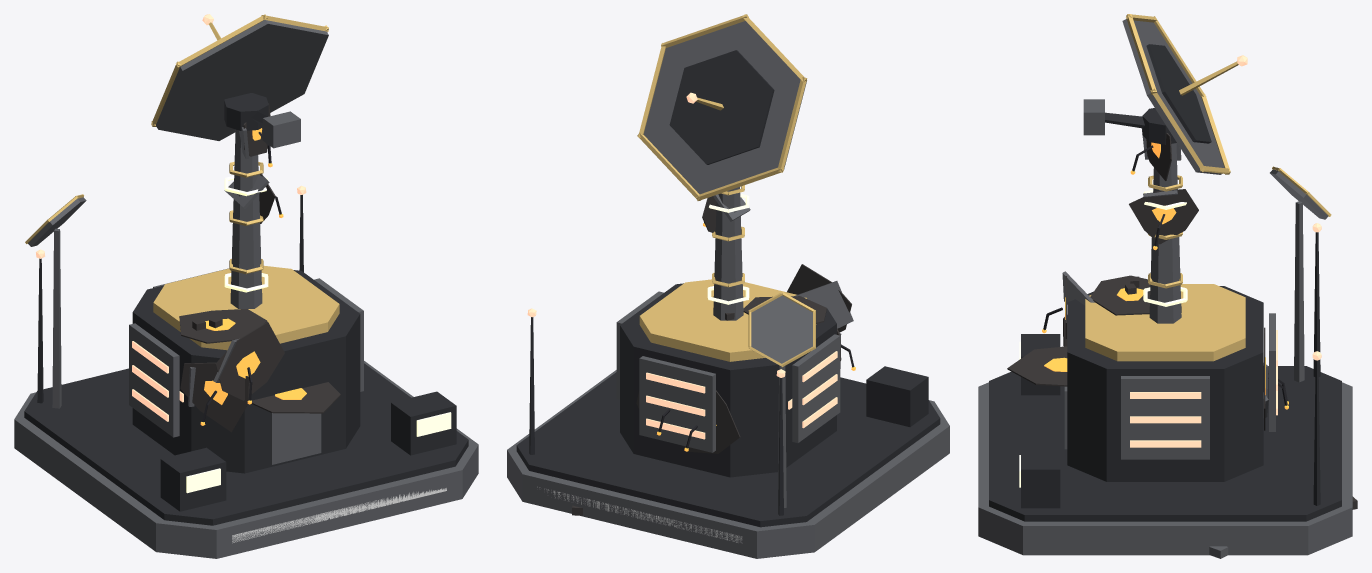
Rendered from Aegis_SensorArray.fbx.
3 views of the same model, side by side, from view 1: azimuth 30°, elevation 25°; view 2: azimuth 150°, elevation 25°; view 3: azimuth 270°, elevation 25° (orthographic). The views are drawn at different scales.
Parts seen in each view (by area): view 1: SA_BaseTop, SA_Base, SA_Block, SA_DishPlate, SA_BlockCap, SA_Mast, SA2_Panel1, SA_Console-1, SA_Console1, Aegis_SensorArray_DmgScorch1, SA_Door, Aegis_SensorArray_DmgScorch2 (+12 smaller); view 2: SA_BaseTop, SA_Base, SA_Block, SA_DishPlate, SA_DishInner, SA_BlockCap, SA2_Panel2, SA2_Panel1, SA2_RelayPlate, SA_DishRim, SA_Console-1, SA_Mast (+9 smaller); view 3: SA_BaseTop, SA_Block, SA_Base, SA_BlockCap, SA2_Panel0, SA_DishPlate, SA_Mast, SA_DishInner, SA_Console1, SA_DishRim, Aegis_SensorArray_DmgScorch3, SA2_RelayMast (+14 smaller).
Boxes of the visible parts, box(x1,y1,x2,y2) form: SA_BaseTop: box(24, 363, 468, 525); SA_Base: box(14, 361, 478, 558); SA_Block: box(132, 270, 360, 473); SA_DishPlate: box(156, 20, 328, 140); SA_BlockCap: box(153, 265, 339, 350); SA_Mast: box(230, 129, 262, 308); SA2_Panel1: box(129, 323, 179, 437); SA_Console-1: box(160, 447, 226, 511); SA_Console1: box(391, 391, 456, 455); Aegis_SensorArray_DmgScorch1: box(215, 322, 284, 400); SA_Door: box(270, 413, 321, 464); Aegis_SensorArray_DmgScorch2: box(180, 362, 248, 432); SA_BaseTop: box(516, 372, 940, 527); SA_Base: box(507, 370, 949, 558); SA_Block: box(620, 283, 836, 477); SA_DishPlate: box(643, 21, 806, 194); SA_DishInner: box(669, 50, 774, 164); SA_BlockCap: box(639, 279, 816, 361); SA2_Panel2: box(639, 356, 715, 452); SA2_Panel1: box(792, 334, 840, 442); SA2_RelayPlate: box(751, 295, 812, 364); SA_DishRim: box(637, 14, 807, 200); SA_Console-1: box(866, 366, 928, 426); SA_Mast: box(713, 187, 743, 320); SA_BaseTop: box(989, 366, 1341, 521); SA_Block: box(1067, 286, 1263, 481); SA_Base: box(978, 382, 1352, 555); SA_BlockCap: box(1085, 284, 1245, 361); SA2_Panel0: box(1121, 376, 1209, 459); SA_DishPlate: box(1122, 19, 1224, 174); SA_Mast: box(1149, 143, 1181, 323); SA_DishInner: box(1146, 44, 1211, 143); SA_Console1: box(1021, 447, 1060, 508); SA_DishRim: box(1126, 14, 1230, 174); Aegis_SensorArray_DmgScorch3: box(1129, 189, 1198, 244); SA2_RelayMast: box(1294, 201, 1304, 382).
Size of the model in its own units: 2.16 by 2.86 by 2.13.
